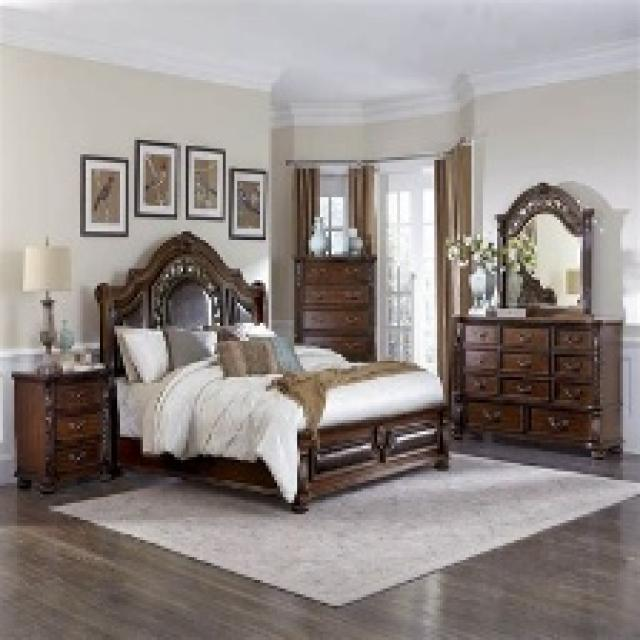Bed: (91, 228, 448, 512)
